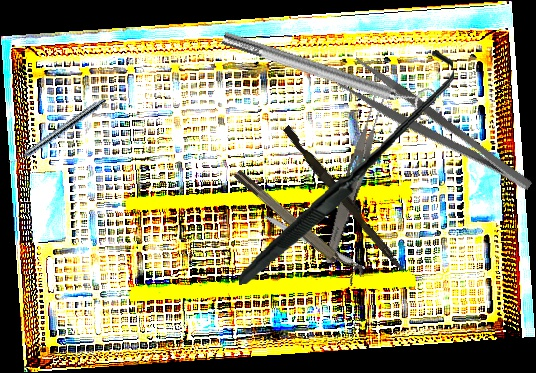Dressing Forceps: (336, 54, 536, 210), (321, 93, 389, 267)
Fixation Ring: (218, 19, 439, 125), (231, 162, 367, 287)
Handpiece: (7, 94, 108, 170)
Hook Surgical: (223, 49, 468, 285)
Pusher: (279, 125, 411, 274)
Scalpel Handle: (259, 212, 367, 274)
